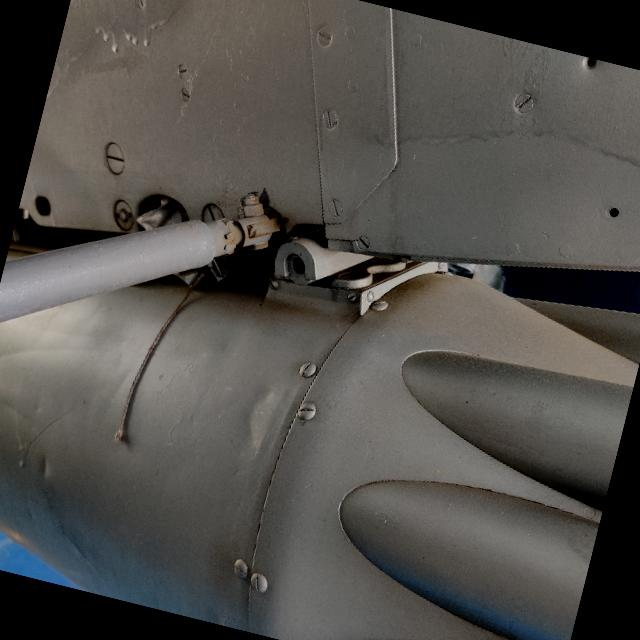dent: (218, 372, 301, 465)
